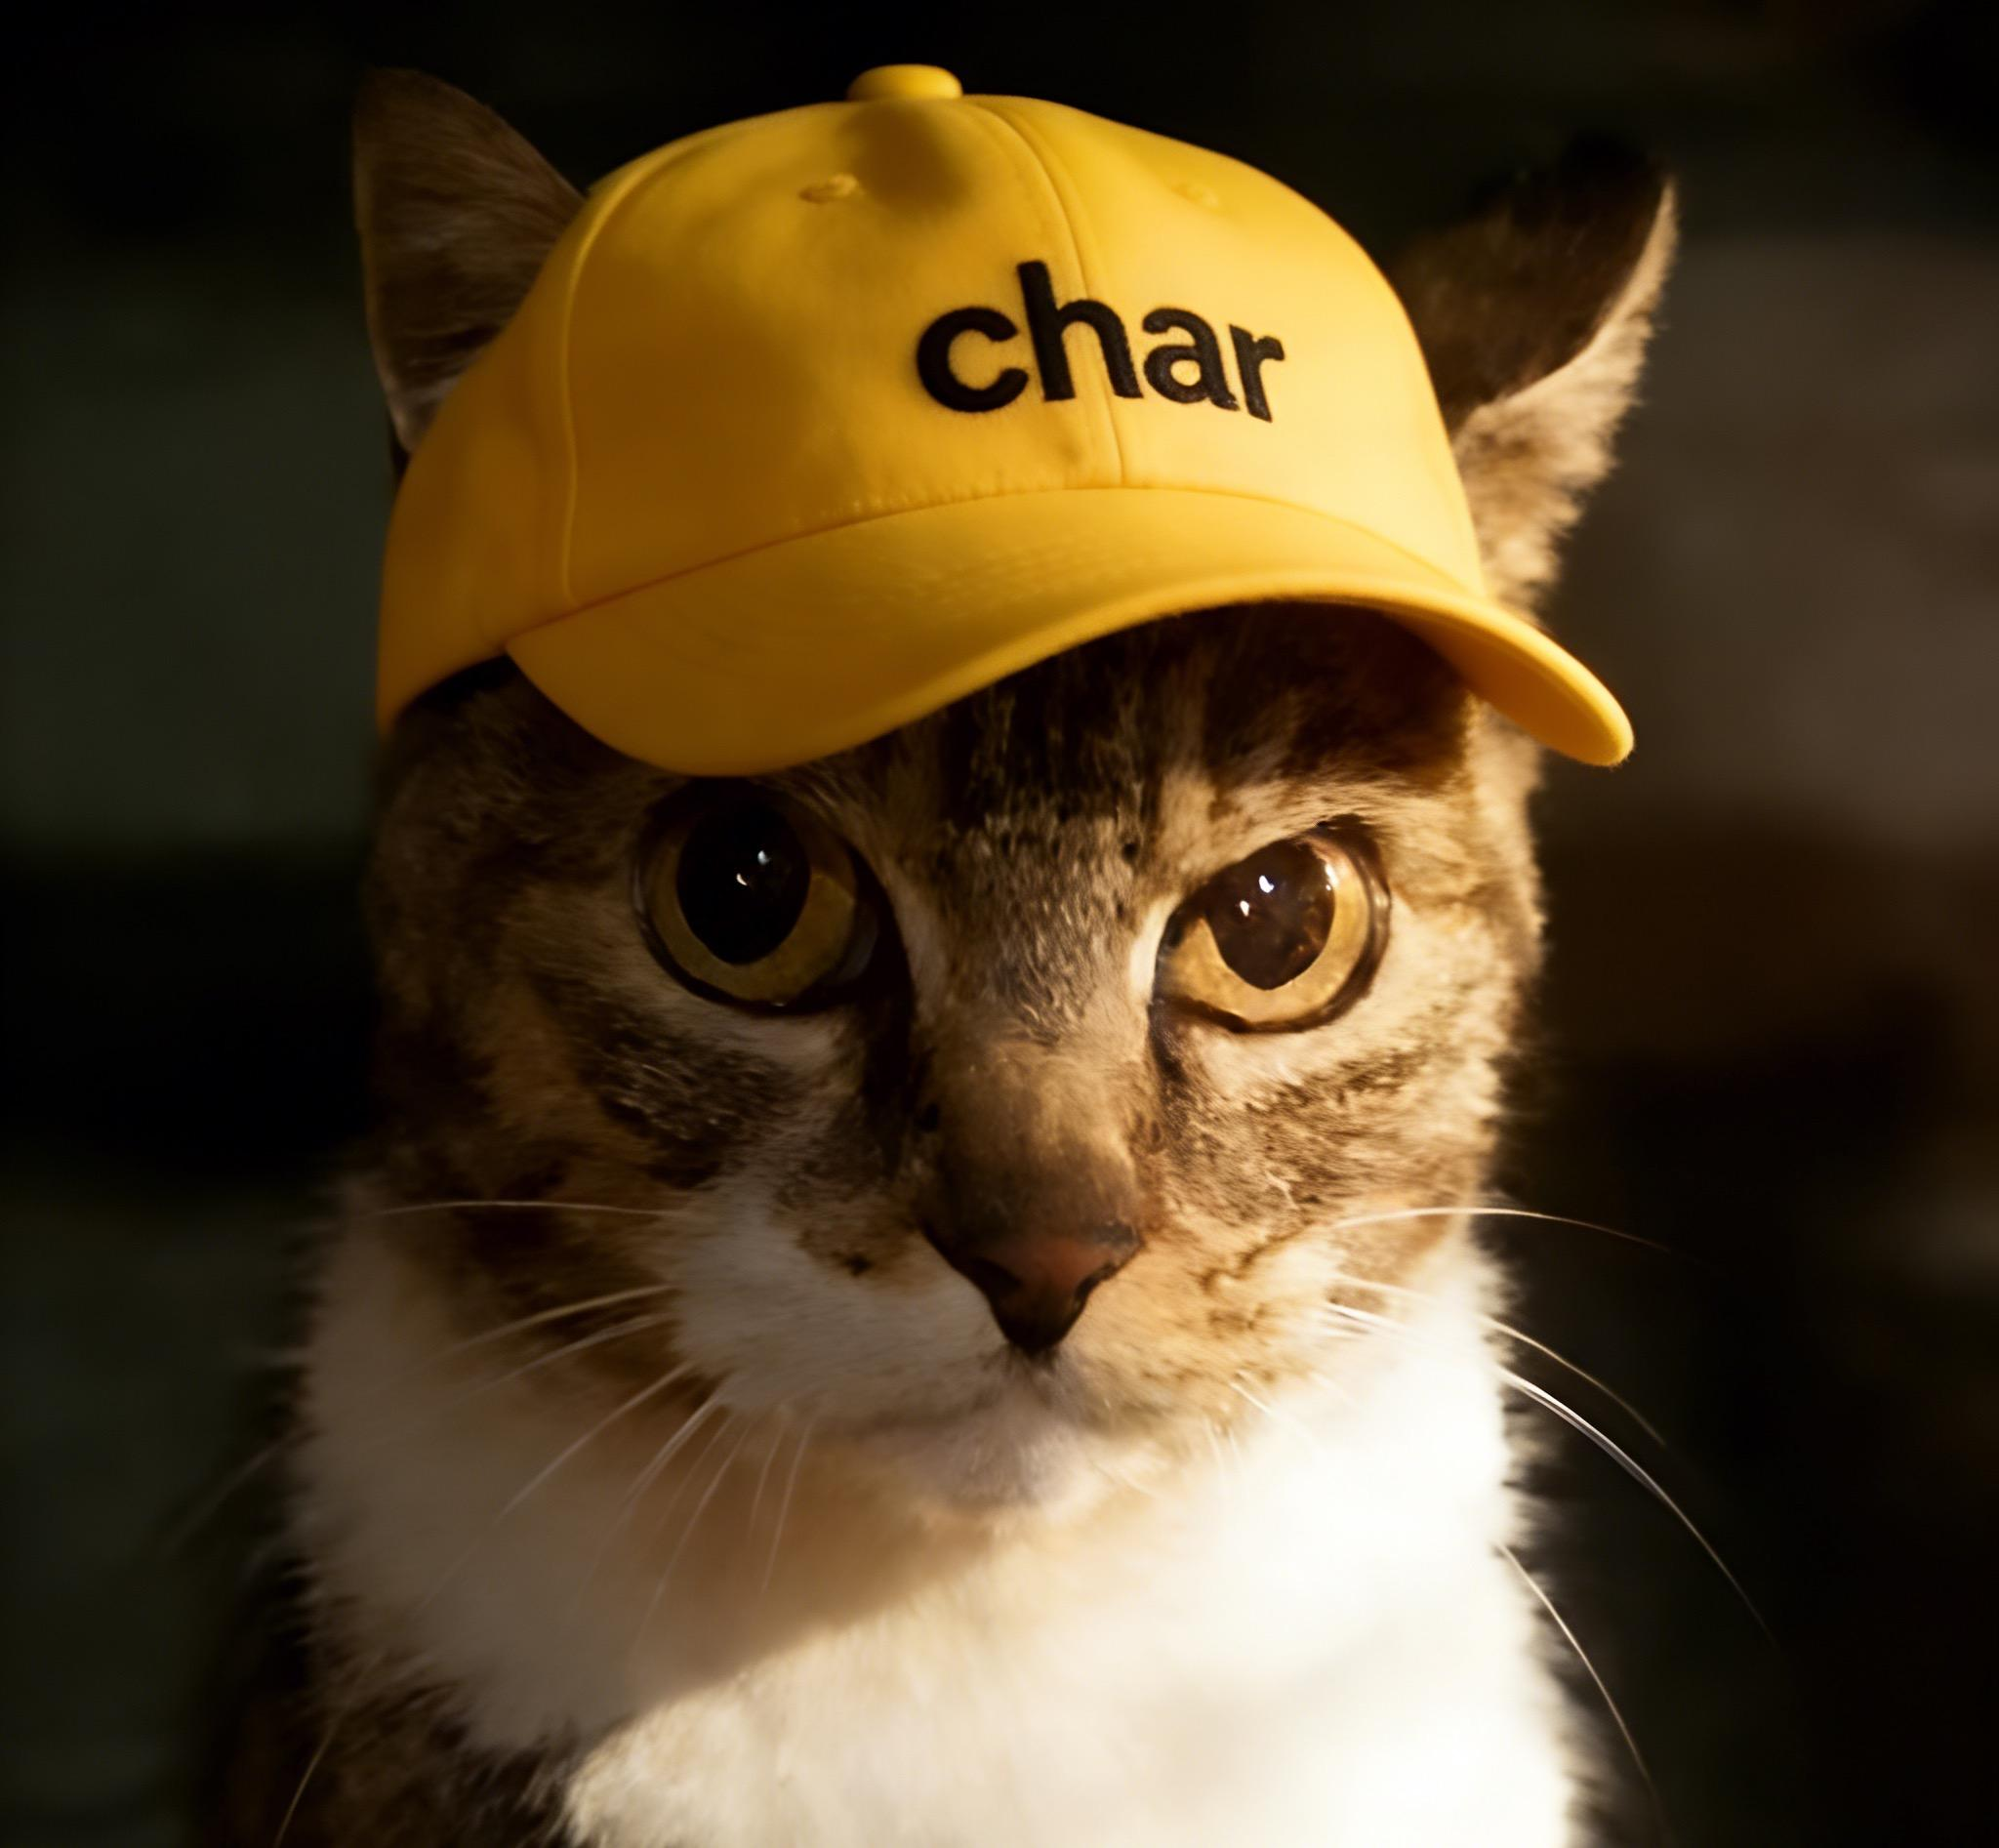cat: (179, 585, 1670, 1752)
